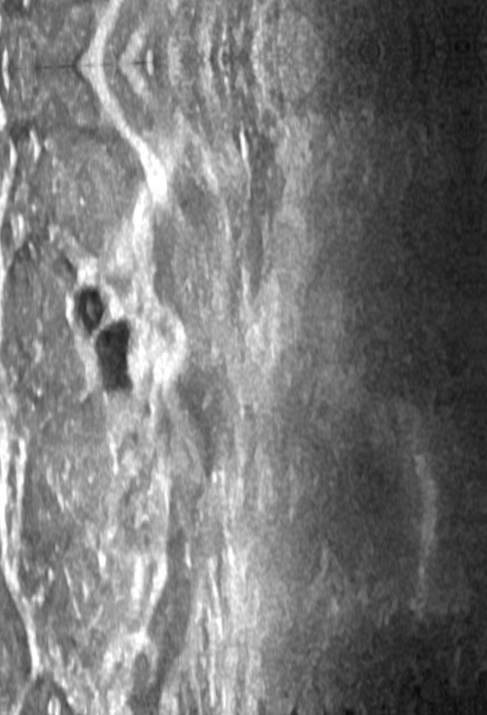Benign: (88, 317, 136, 394)
